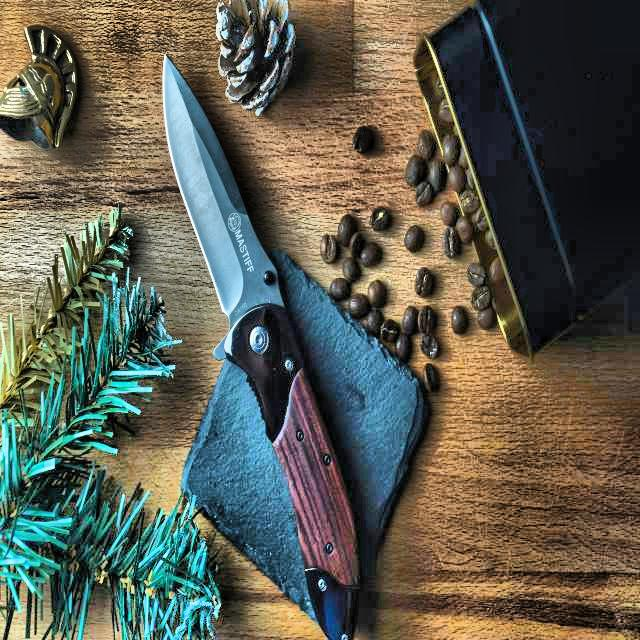knife: (158, 46, 386, 640)
